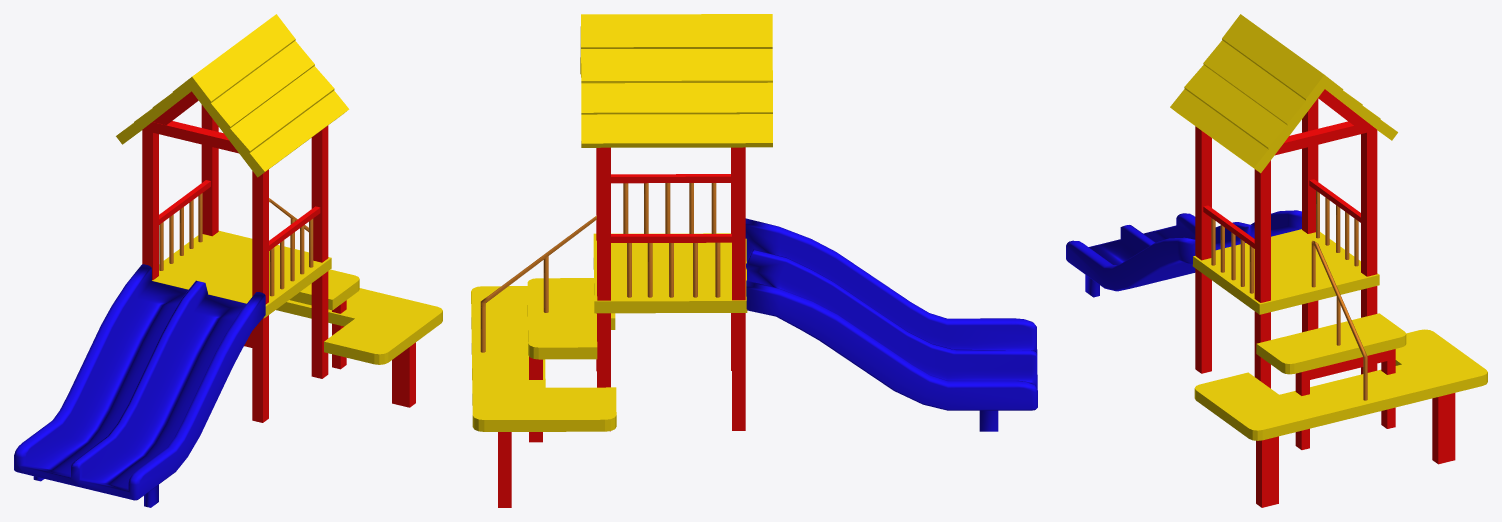
3 renders of one model, left to right at view 1: azimuth 30°, elevation 25°; view 2: azimuth 150°, elevation 25°; view 3: azimuth 270°, elevation 25°, orthographic. The views are drawn at different scales.
Visible parts, largest first — view 1: model2; view 2: model2; view 3: model2.
Part boxes in pixels (x1,y1,x2,y2): model2: [14, 14, 442, 507]; model2: [471, 14, 1037, 507]; model2: [1066, 14, 1487, 507].
Bounding box in the file's own units: 4.36 × 3.52 × 3.52.
2 materials, 1 textured.
